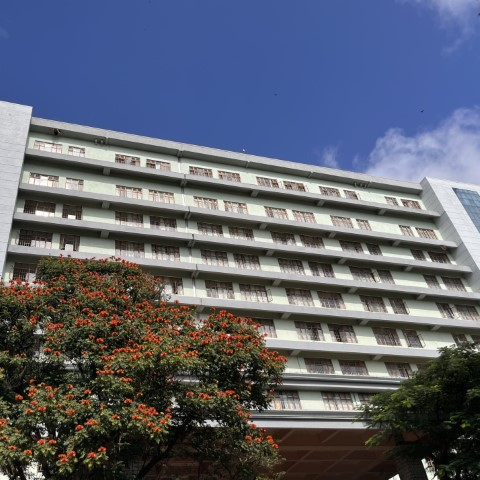Central Block: (1, 93, 480, 410)
